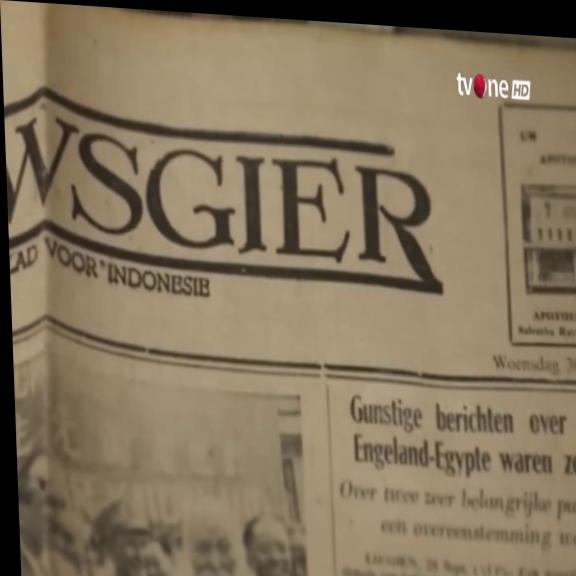Kertas: (3, 86, 576, 576)
